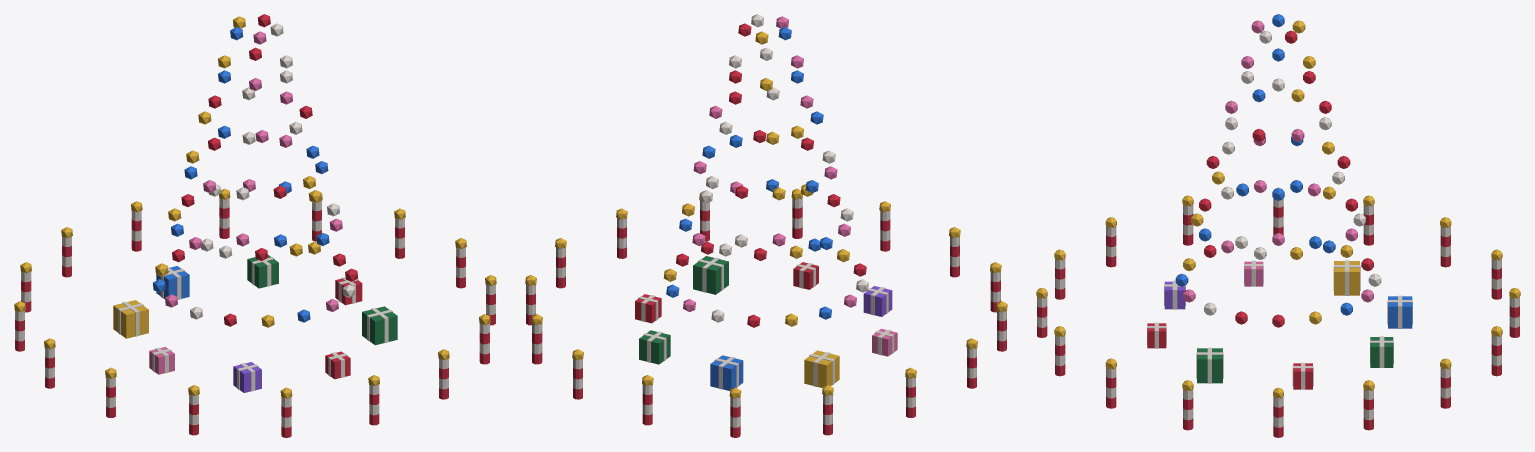
File: TreePlaza_Decor.glb
3 renders of one model, left to right at view 1: azimuth 30°, elevation 25°; view 2: azimuth 150°, elevation 25°; view 3: azimuth 270°, elevation 25°, orthographic.
Visible parts, largest first — view 1: TreePlaza_Decor; view 2: TreePlaza_Decor; view 3: TreePlaza_Decor.
Boxes of the visible parts, box(x1,y1,x2,y2) form: TreePlaza_Decor: box(14, 14, 496, 437); TreePlaza_Decor: box(525, 14, 1007, 437); TreePlaza_Decor: box(1036, 14, 1520, 437).
Bounding box in the file's own units: 32.8 × 23.35 × 32.77.
